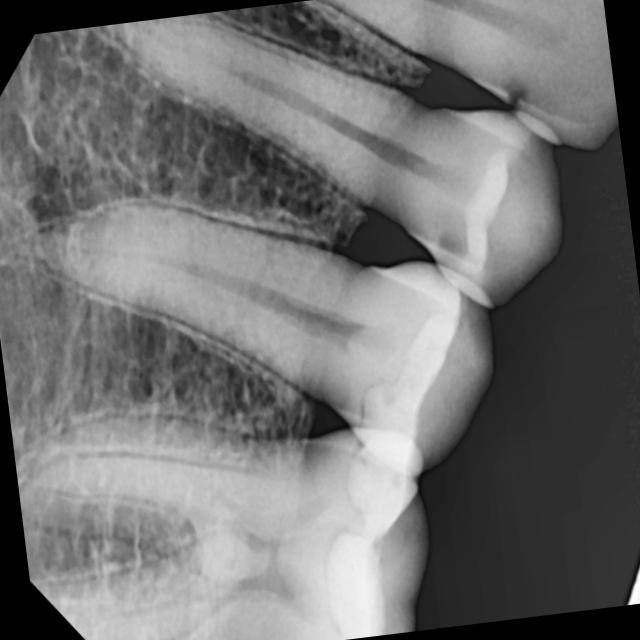Normal: (55, 126, 515, 491), (91, 3, 572, 337)
